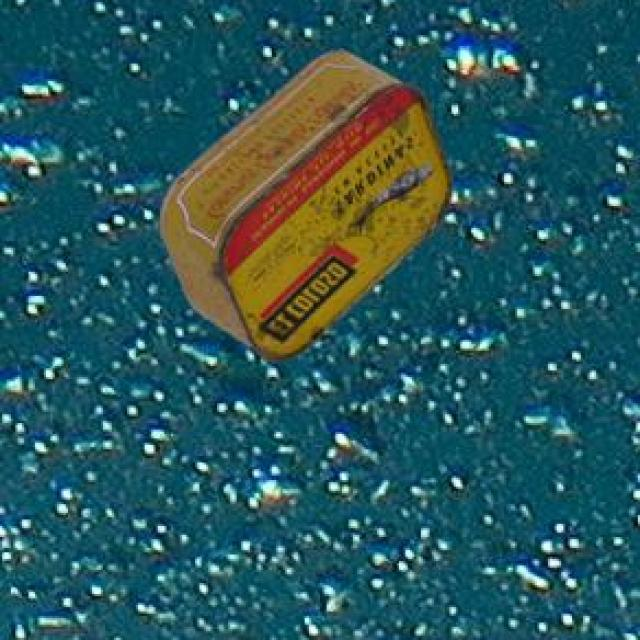logam: (157, 54, 448, 365)
